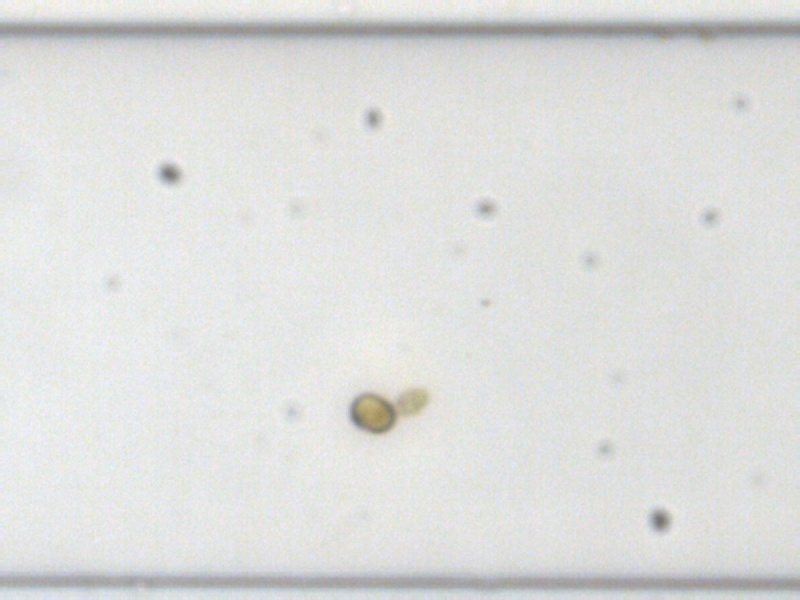Dunaliella salina: (394, 388, 430, 416)
Effrenium: (347, 388, 397, 436)
